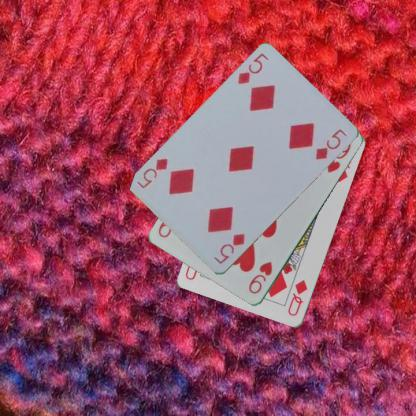5d: (211, 231, 247, 266), (235, 51, 270, 86)
9h: (245, 259, 274, 296)
Qd: (286, 277, 309, 318)
